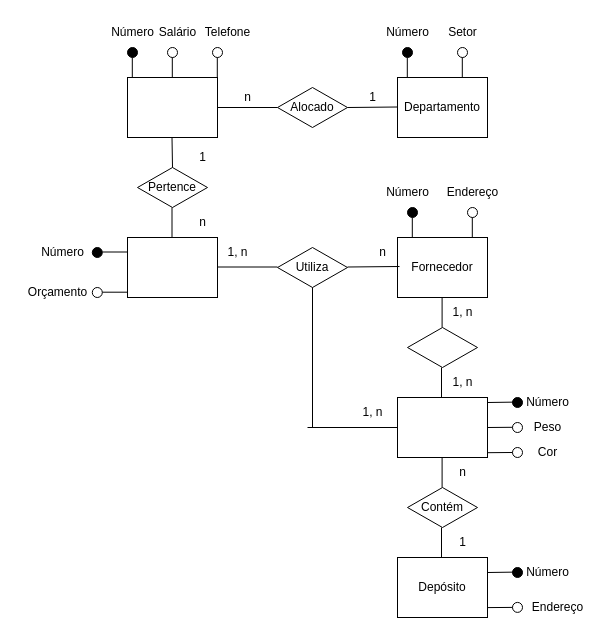
The diagram is 609 pixels wide and 639 high, and some of its shapes have lost their labels. Each missing label, with the box of its shape:
Fornece: (406, 326, 478, 368)
Funcionarios: (126, 76, 218, 138)
Peças: (396, 396, 488, 458)
Projeto: (126, 236, 218, 298)
